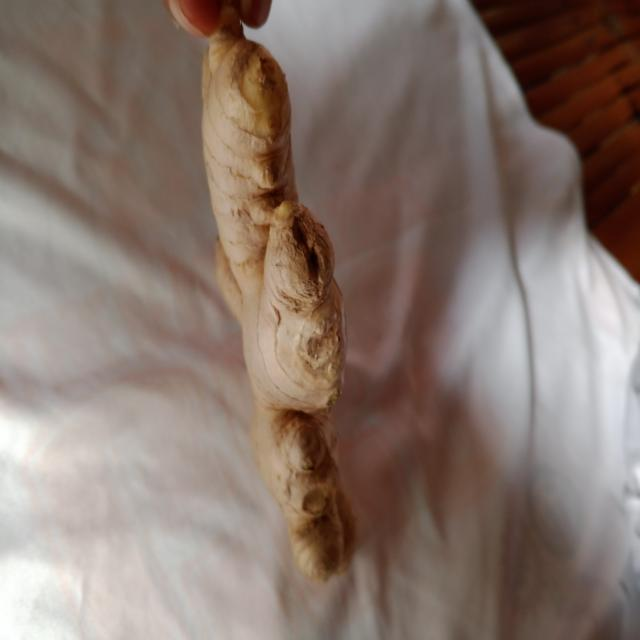ginger: (160, 24, 410, 602)
